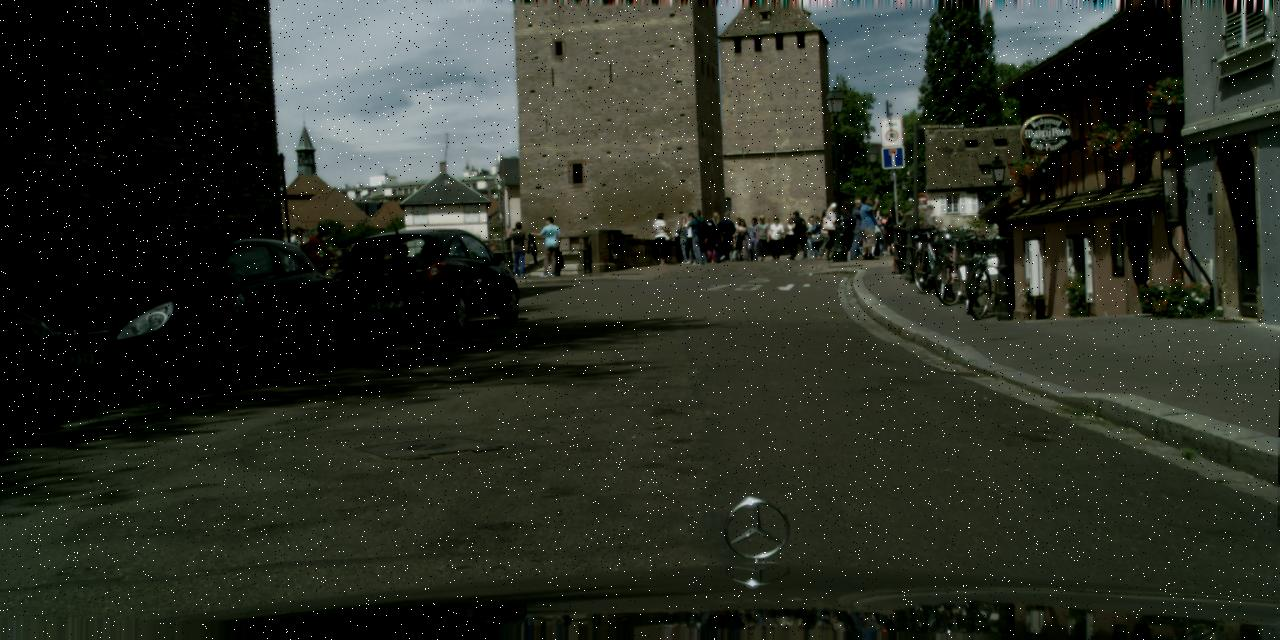ped: (855, 196, 881, 260), (284, 227, 309, 290), (843, 199, 868, 259), (537, 216, 561, 276), (305, 226, 329, 286), (506, 221, 530, 278), (819, 202, 842, 260), (686, 209, 709, 264), (679, 212, 700, 263), (653, 212, 673, 264), (704, 211, 724, 262), (815, 210, 835, 258), (787, 210, 807, 258), (831, 208, 851, 255), (752, 213, 772, 260), (702, 214, 721, 262), (715, 212, 734, 260), (869, 210, 888, 255), (884, 208, 902, 255), (676, 217, 694, 262), (806, 215, 824, 258), (745, 217, 763, 260), (842, 213, 859, 258), (766, 218, 784, 260), (804, 214, 821, 258), (729, 217, 746, 261), (880, 211, 896, 254), (734, 219, 750, 259), (783, 217, 799, 256)
